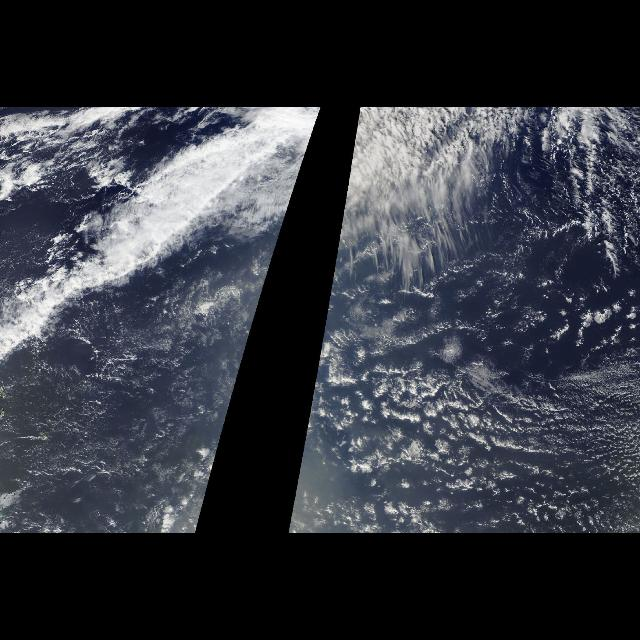Fish: (2, 111, 296, 357)
Gravel: (335, 332, 637, 530), (29, 302, 259, 506), (293, 302, 335, 506)
Sugar: (4, 288, 254, 530)
